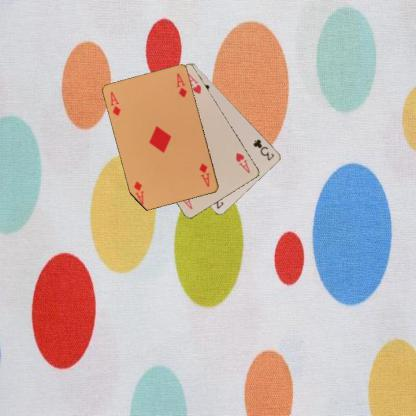3c: (250, 136, 275, 162)
Ad: (196, 161, 211, 188), (108, 89, 122, 117)
Ah: (233, 150, 252, 174)
